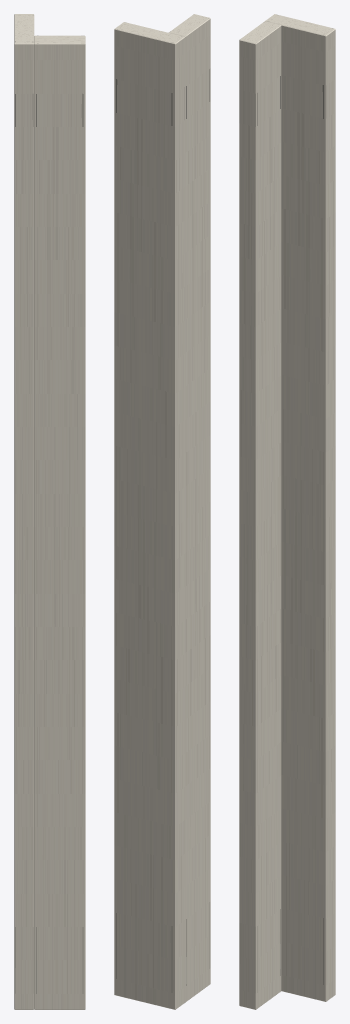
Rendered from house_03_corner_trim.glb.
3 renders of one model, left to right at view 1: azimuth 90°, elevation 25°; view 2: azimuth 150°, elevation 25°; view 3: azimuth 330°, elevation 25°, orthographic.
Parts seen in each view (by area): view 1: house_03_corner_trim; view 2: house_03_corner_trim; view 3: house_03_corner_trim.
Part boxes in pixels (left/top/right/bottom): house_03_corner_trim: left=14, top=14, right=85, bottom=1009; house_03_corner_trim: left=114, top=14, right=210, bottom=1009; house_03_corner_trim: left=239, top=14, right=335, bottom=1009.
Bounding box in the file's own units: 0.18 × 2.7 × 0.18.
1 material, 1 textured.
